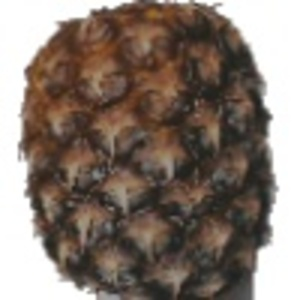abacaxi: (17, 2, 279, 287)
